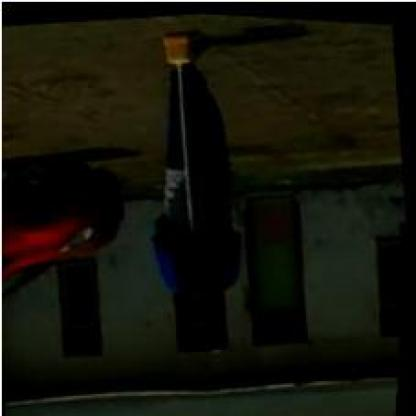yellow: (170, 240, 226, 350)
